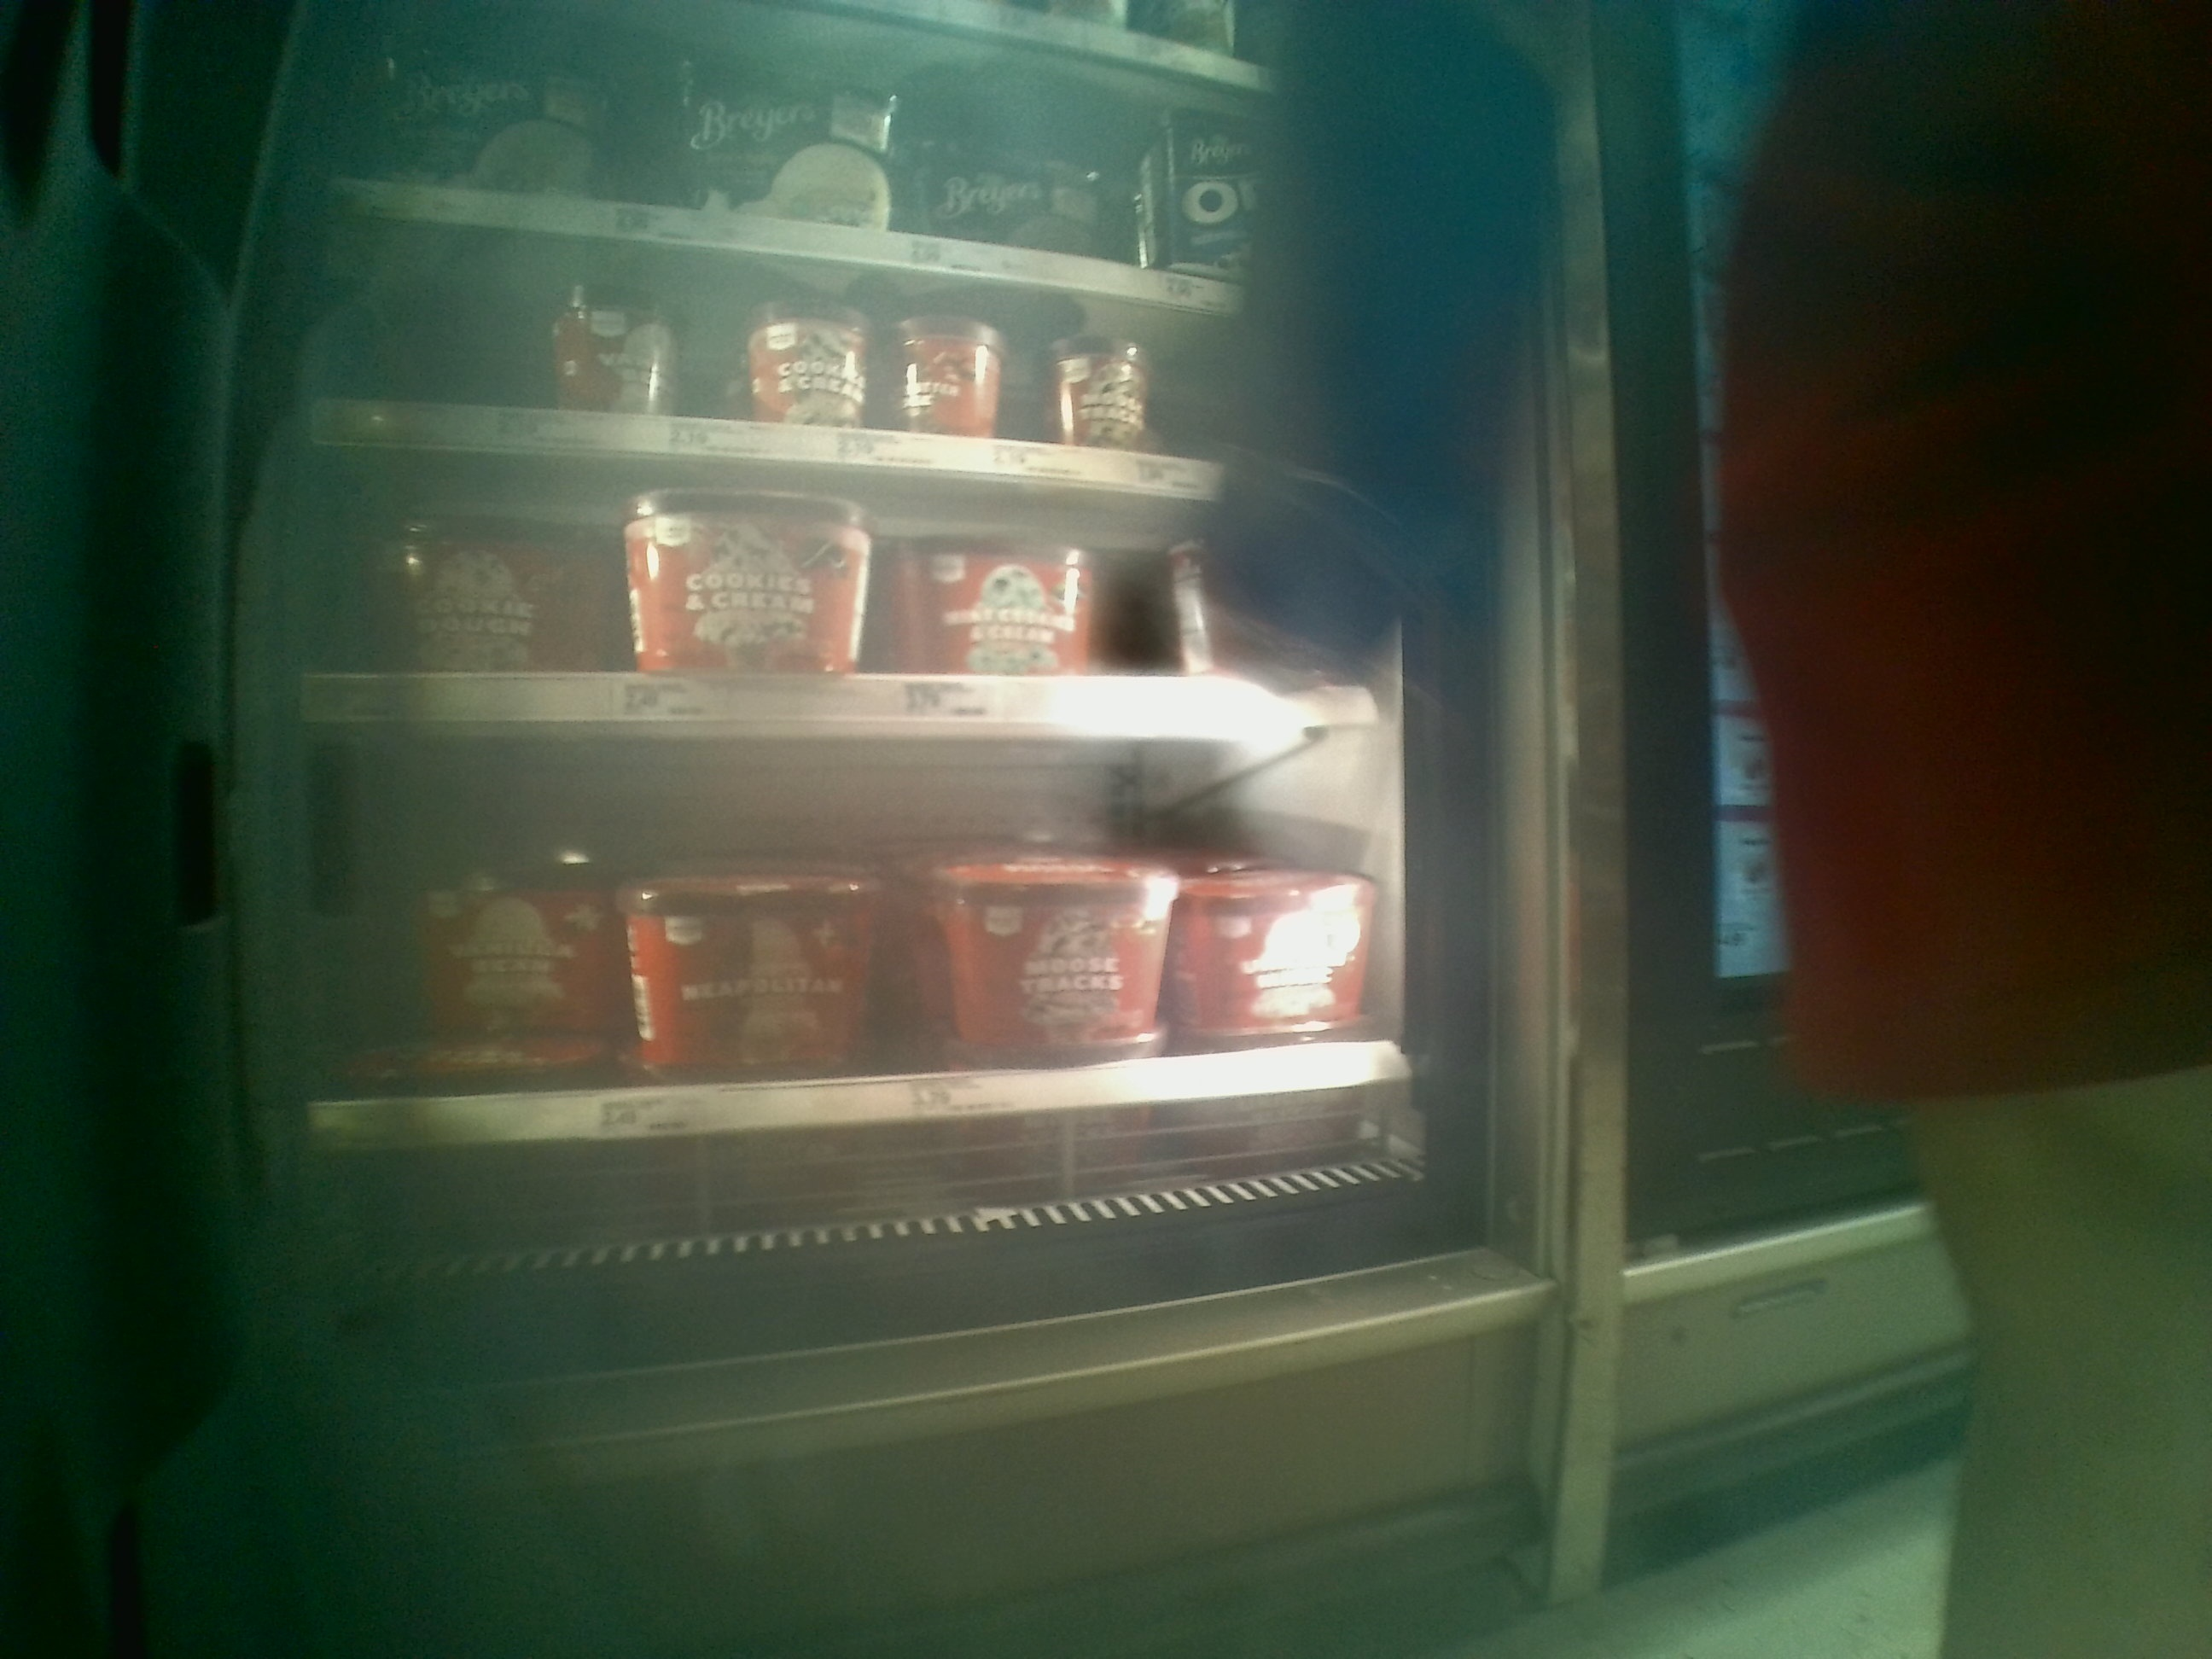ice-cream-shelf: (301, 728, 1411, 1150)
